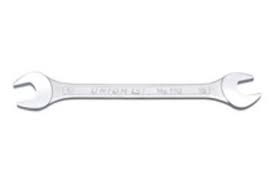Wrench: (10, 66, 265, 114)
